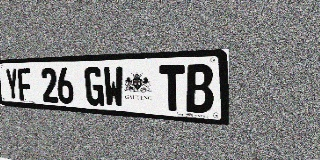2: (41, 67, 58, 103)
6: (56, 67, 74, 104)
B: (185, 64, 214, 114)
F: (17, 68, 33, 101)
G: (84, 66, 104, 106)
T: (159, 65, 185, 112)
W: (103, 66, 124, 108)
Y: (5, 68, 19, 101)
